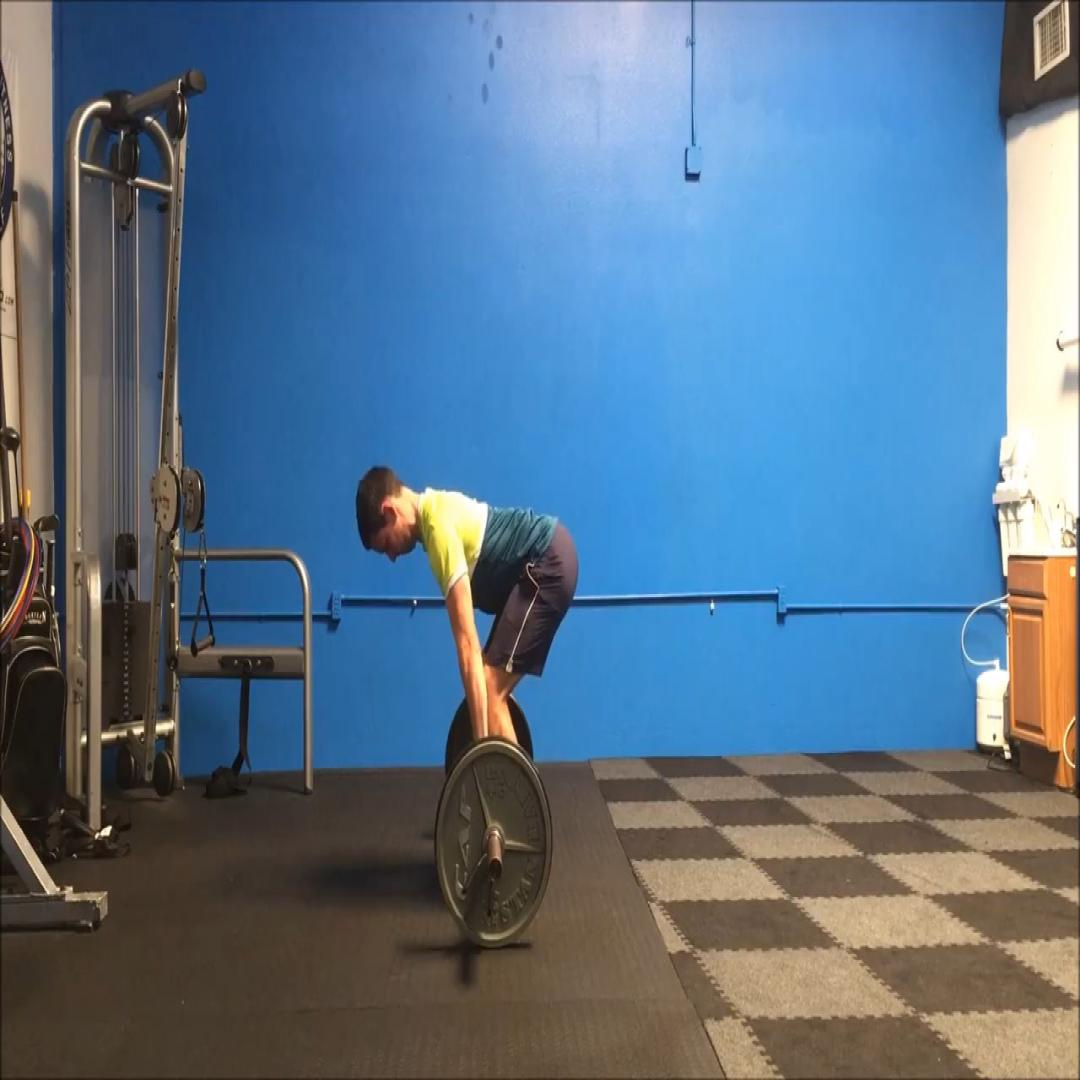Bar: (488, 858, 503, 880)
Barbell: (434, 736, 552, 946)
